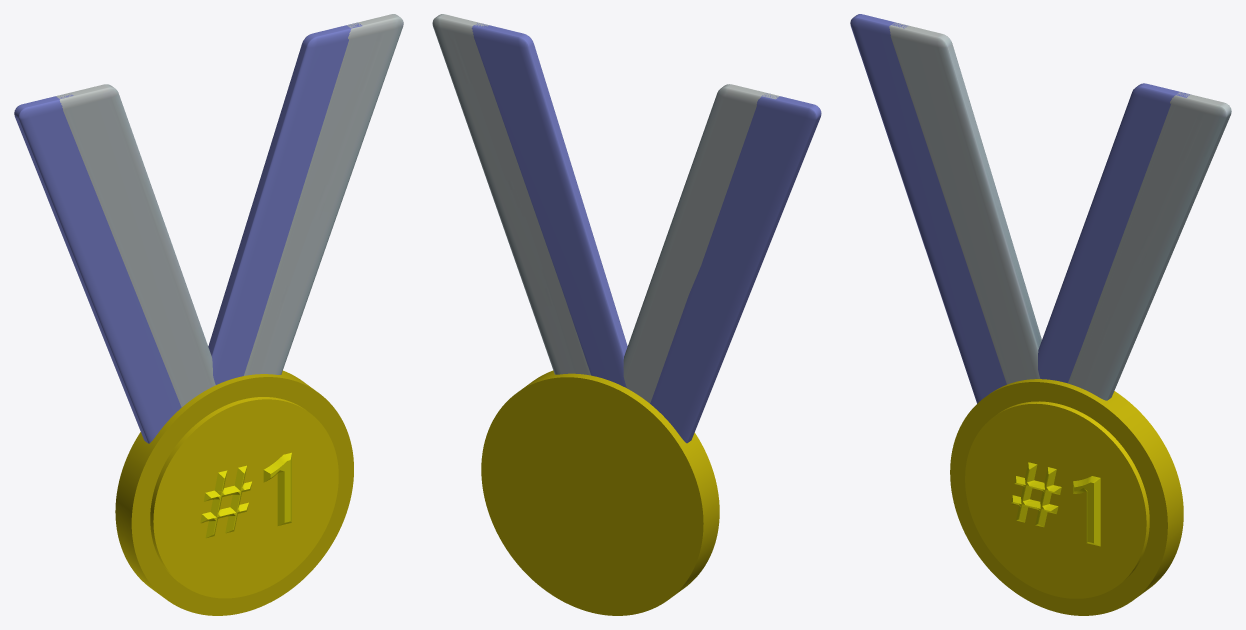
File: medal.glb
3 views of the same model, side by side, from view 1: azimuth 30°, elevation 25°; view 2: azimuth 150°, elevation 25°; view 3: azimuth 330°, elevation 25° (orthographic). The views are drawn at different scales.
Parts seen in each view (by area): view 1: Medal_5, Medal_6, Medal_3, Medal_2; view 2: Medal_2, Medal_6, Medal_5; view 3: Medal_5, Medal_3, Medal_6, Medal_2.
Part boxes in pixels (bbox=[...]): Medal_5: bbox=[56, 14, 403, 407]; Medal_6: bbox=[14, 23, 362, 443]; Medal_3: bbox=[150, 397, 338, 598]; Medal_2: bbox=[115, 370, 353, 615]; Medal_2: bbox=[481, 370, 719, 615]; Medal_6: bbox=[471, 22, 821, 443]; Medal_5: bbox=[432, 14, 779, 403]; Medal_5: bbox=[889, 22, 1231, 400]; Medal_3: bbox=[965, 401, 1149, 598]; Medal_6: bbox=[850, 14, 1189, 403]; Medal_2: bbox=[950, 379, 1183, 615].
Size of the model in its own units: 0.1712 by 0.2348 by 0.0171.
Materials: 3 (1 with a texture image).
